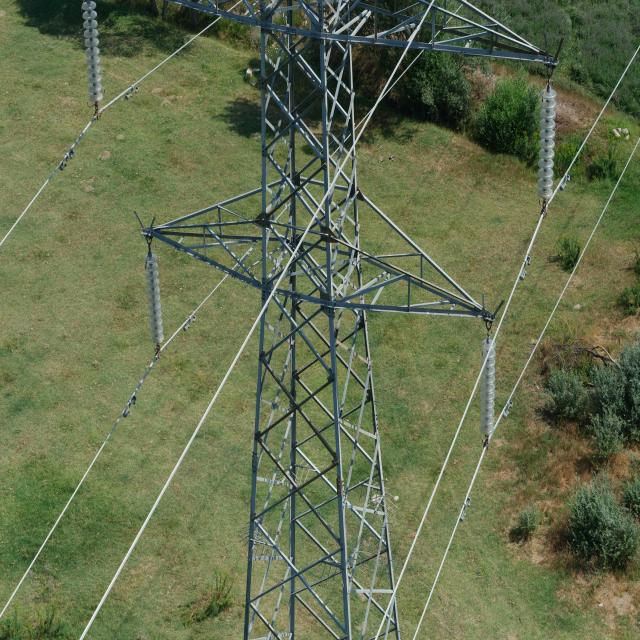sag_alt: (240, 0, 406, 640)
